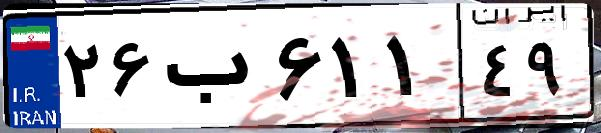1: (385, 28, 445, 110), (330, 28, 385, 110)
2: (57, 26, 110, 100)
4: (475, 38, 525, 113)
6: (270, 28, 330, 110), (110, 28, 158, 98)
9: (525, 38, 570, 115)
ب: (158, 20, 270, 120)
